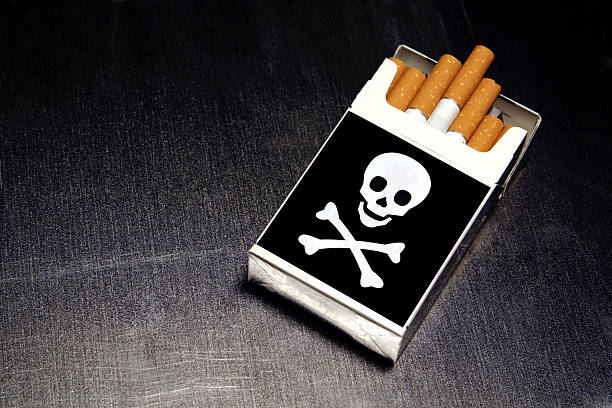cigarette: (246, 38, 542, 365), (425, 45, 495, 134), (405, 52, 463, 122), (446, 76, 502, 144), (387, 65, 427, 113), (467, 113, 504, 153), (385, 55, 408, 99)
